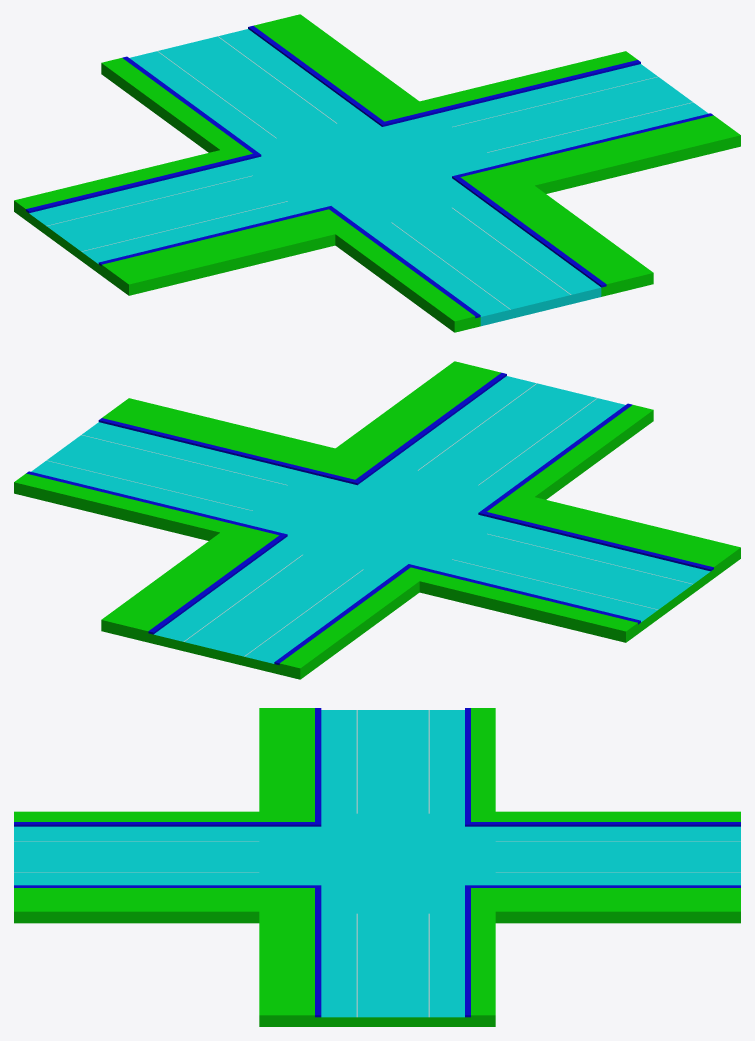
File: intersection_Road.fbx
3 views of the same model, one above another, from view 1: azimuth 30°, elevation 25°; view 2: azimuth 150°, elevation 25°; view 3: azimuth 270°, elevation 25° (orthographic). The views are drawn at different scales.
Parts seen in each view (by area): view 1: intersection_Road; view 2: intersection_Road; view 3: intersection_Road.
Boxes of the visible parts, left/top/right/bottom form: intersection_Road: left=14, top=14, right=740, bottom=332; intersection_Road: left=14, top=361, right=740, bottom=679; intersection_Road: left=14, top=708, right=740, bottom=1026.
Bounding box in the file's own units: 1705 × 30.14 × 1705.
